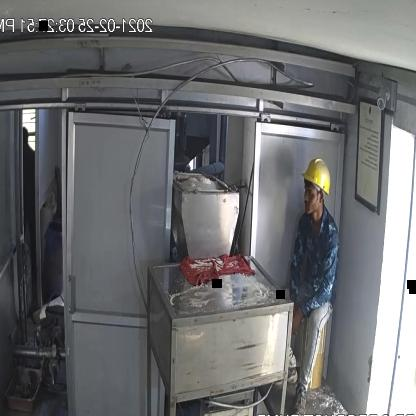helmet: (296, 143, 343, 205)
